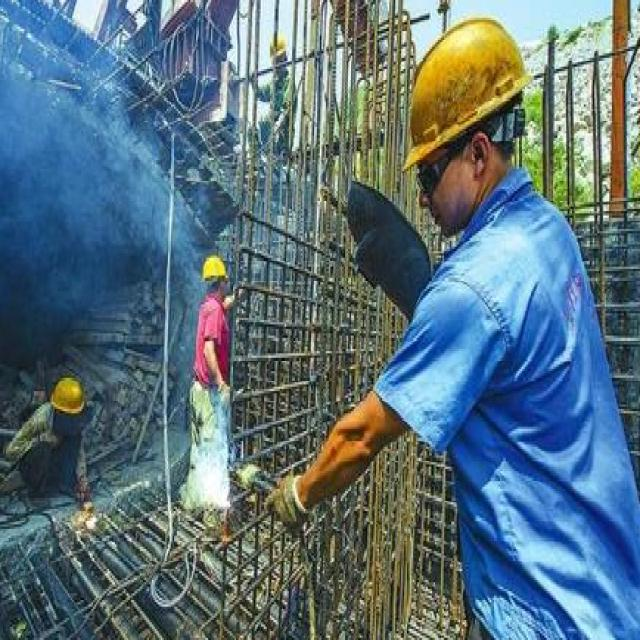helmet: (391, 0, 537, 240), (48, 376, 86, 434), (200, 247, 228, 300), (266, 27, 290, 78)
